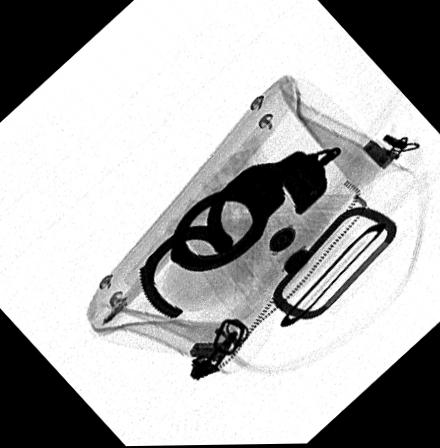HandCuffs: (136, 147, 340, 320)
